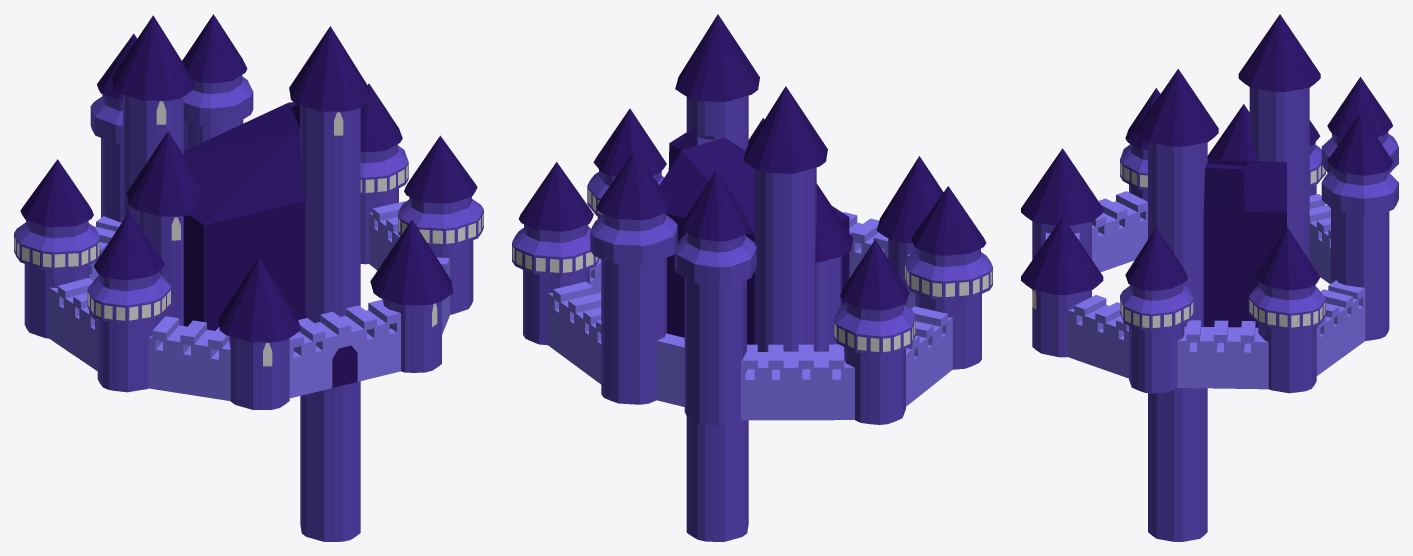
Rendered from 2castle.fbx.
3 renders of one model, left to right at view 1: azimuth 30°, elevation 25°; view 2: azimuth 150°, elevation 25°; view 3: azimuth 270°, elevation 25°, orthographic. The views are drawn at different scales.
Visible parts, largest first — view 1: witchCastleOWall, witchCastleOWall.001, witchCastle, witchCastleOWall.004, witchCastleGateWall, witchCastleOWall.005, witchCastleGate; view 2: witchCastleOWall, witchCastleOWall.004, witchCastleOWall.001, witchCastle, witchCastleOWall.005, witchCastleGateWall; view 3: witchCastleOWall, witchCastleOWall.001, witchCastle, witchCastleOWall.004, witchCastleOWall.005.
Boxes of the visible parts, x1,y1,x2,y2 form: witchCastleOWall: (14, 14, 483, 409); witchCastleOWall.001: (289, 26, 371, 541); witchCastle: (183, 102, 304, 330); witchCastleOWall.004: (112, 15, 194, 223); witchCastleGateWall: (289, 299, 400, 398); witchCastleOWall.005: (126, 131, 201, 325); witchCastleGate: (332, 345, 357, 387); witchCastleOWall: (512, 108, 992, 425); witchCastleOWall.004: (743, 86, 827, 351); witchCastleOWall.001: (675, 14, 759, 541); witchCastle: (659, 127, 849, 344); witchCastleOWall.005: (815, 183, 853, 351); witchCastleGateWall: (843, 212, 888, 278); witchCastleOWall: (1021, 77, 1398, 393); witchCastleOWall.001: (1136, 69, 1218, 541); witchCastle: (1203, 159, 1286, 327); witchCastleOWall.004: (1238, 14, 1320, 260); witchCastleOWall.005: (1207, 104, 1257, 166).
Bounding box in the file's own units: 13335 × 16577 × 12287.
